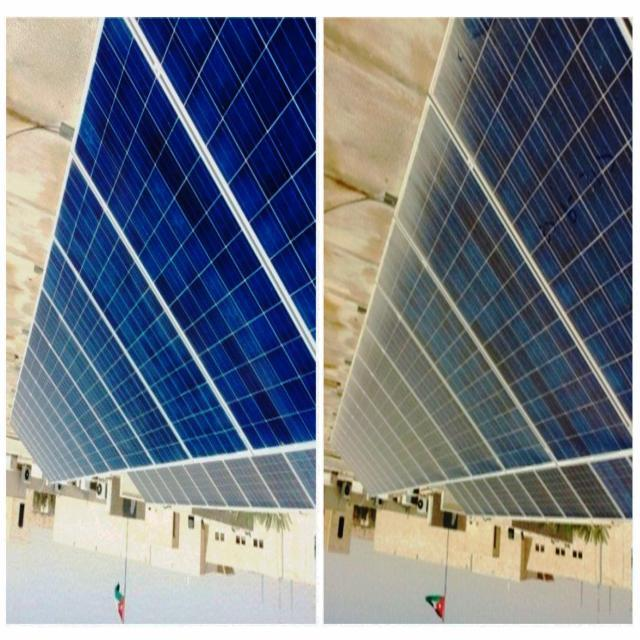faulty: (426, 12, 640, 432), (394, 97, 632, 460), (375, 221, 549, 471), (446, 463, 561, 535), (557, 454, 636, 518)
no faulty: (75, 10, 318, 452), (138, 16, 330, 351), (54, 151, 252, 458), (36, 242, 190, 464)
